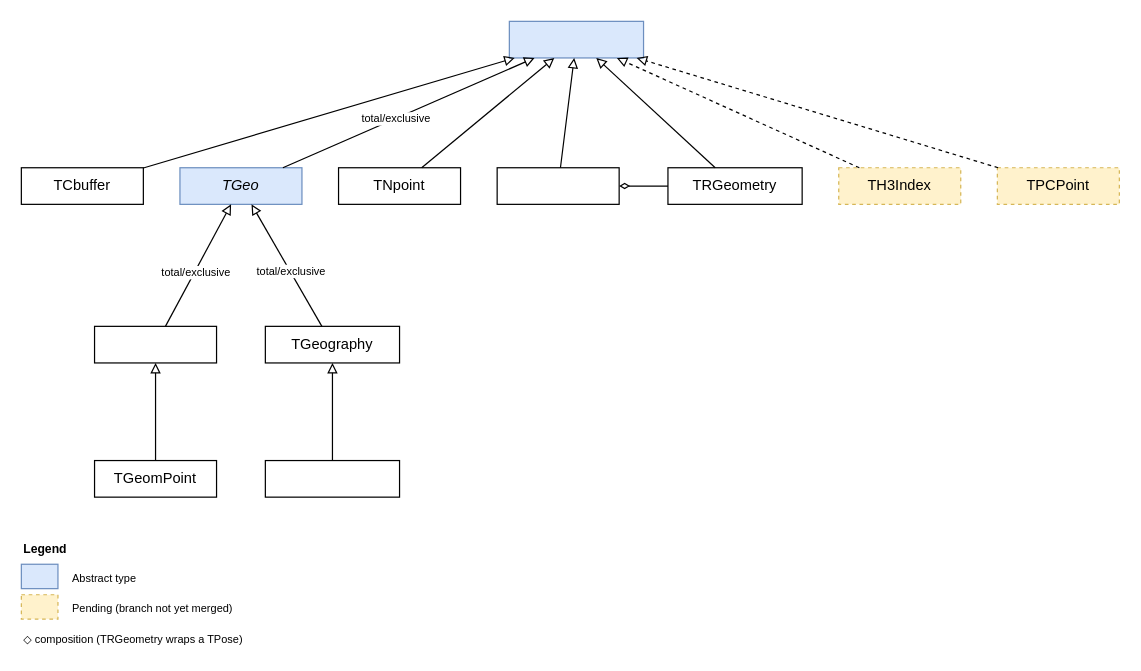
The diagram is 1141 pixels wide and 671 high, and some of its shapes have lost their labels. Here are the shapes that lost their labels. From the top down, the box of each, then its label:
(508, 20, 644, 58): TSpatial
(496, 167, 619, 204): TPose
(93, 325, 217, 363): TGeometry
(264, 459, 400, 497): TGeogPoint
